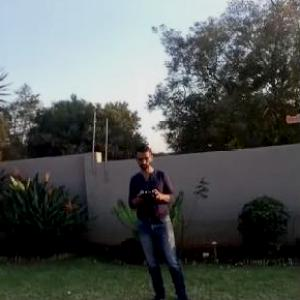follow: (121, 139, 197, 299)
